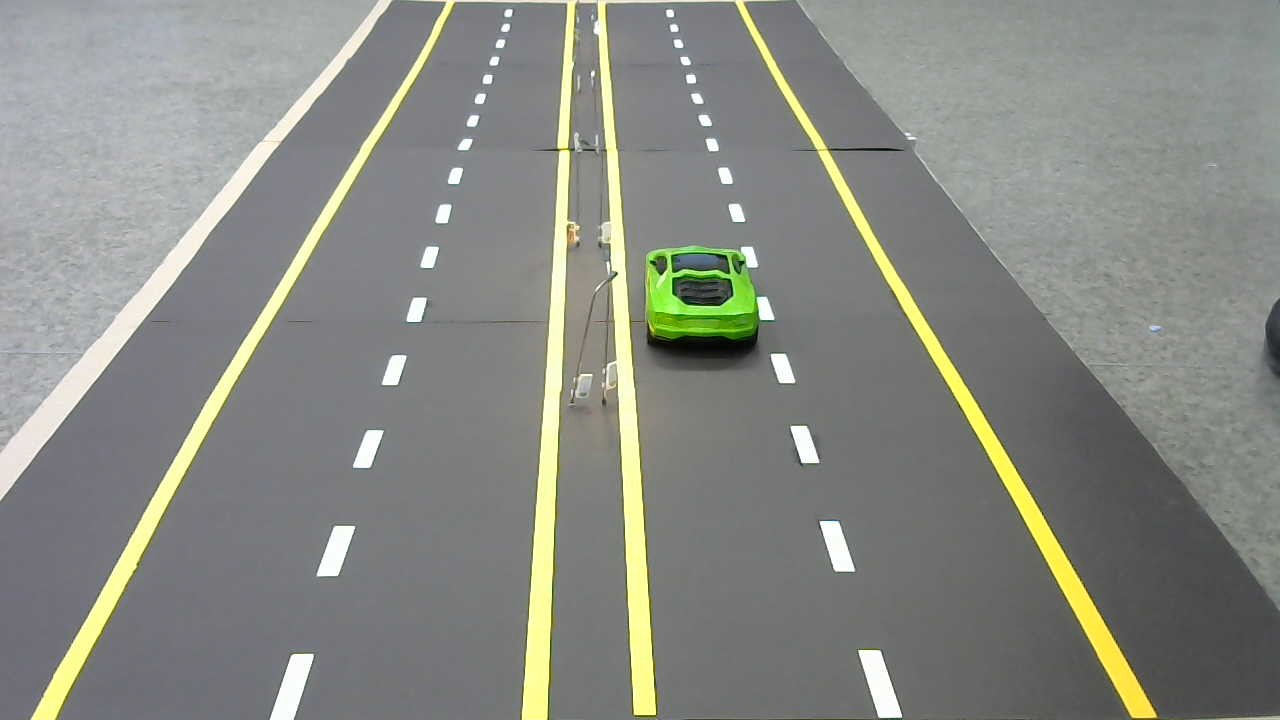back_car: (638, 241, 767, 351)
